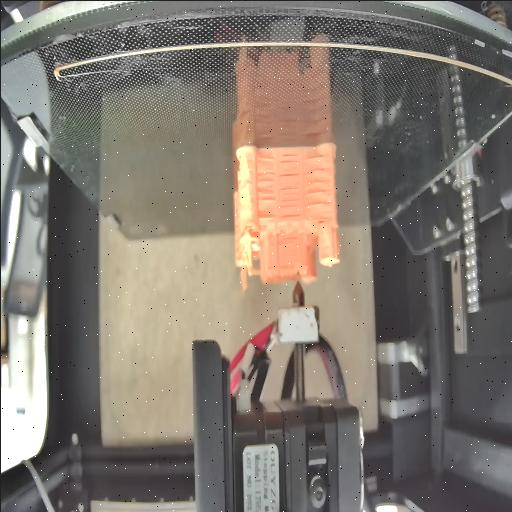cracks: (302, 154, 330, 208), (256, 156, 274, 202), (278, 184, 298, 217), (277, 153, 300, 179), (312, 217, 326, 227), (256, 213, 274, 220)
